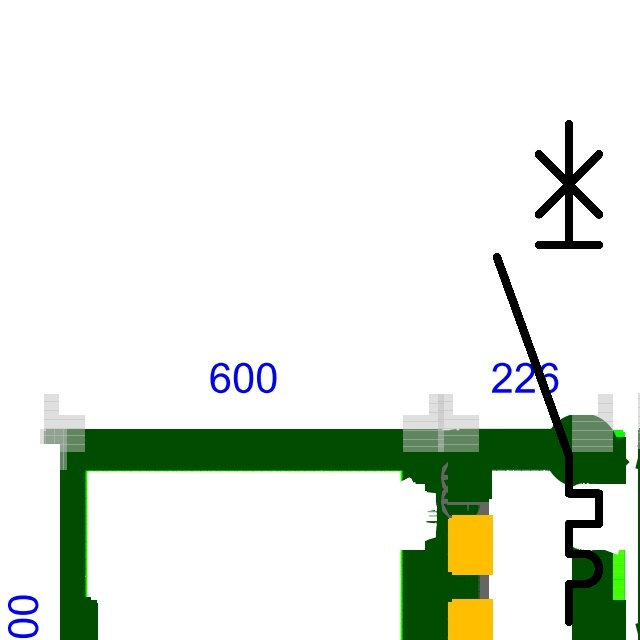interruptor_termomagnetico: (484, 111, 612, 635)
